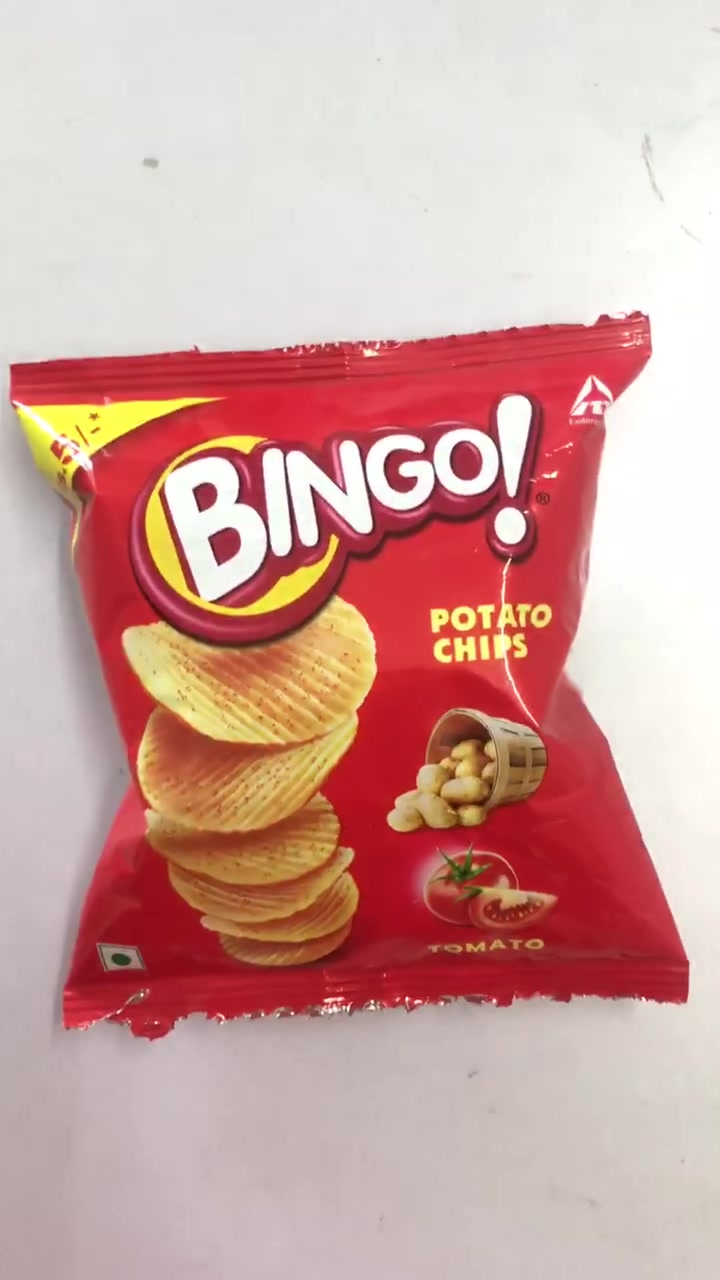Bingo: (17, 343, 685, 1012)
